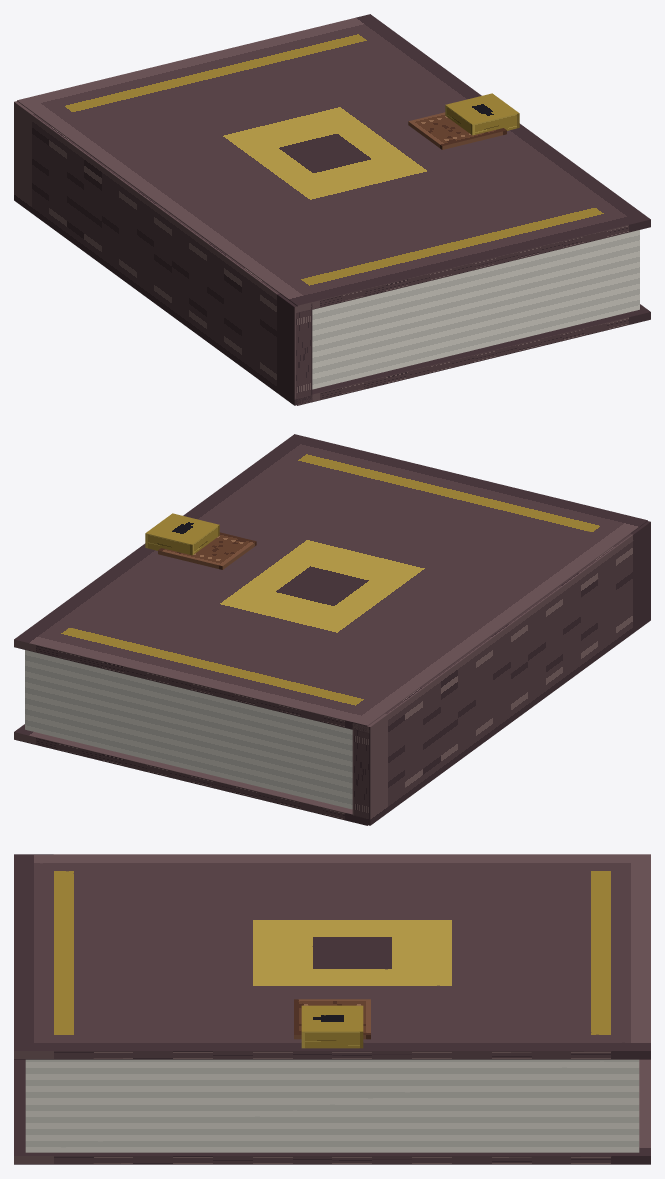
File: INV_LockedDiary.glb
The picture shows the model from 3 angles, top to bottom: view 1: azimuth 30°, elevation 25°; view 2: azimuth 150°, elevation 25°; view 3: azimuth 270°, elevation 25°; orthographic projection. The views are drawn at different scales.
Visible parts, largest first — view 1: INV_LockedDiary_Mesh; view 2: INV_LockedDiary_Mesh; view 3: INV_LockedDiary_Mesh.
Part boxes in pixels (<box>): INV_LockedDiary_Mesh: <box>14,14,650,405</box>; INV_LockedDiary_Mesh: <box>14,434,650,825</box>; INV_LockedDiary_Mesh: <box>14,854,650,1164</box>.
Size of what is drawn, in the model's own units: 0.121 by 0.0385 by 0.165.
Materials: 1 (1 with a texture image).
